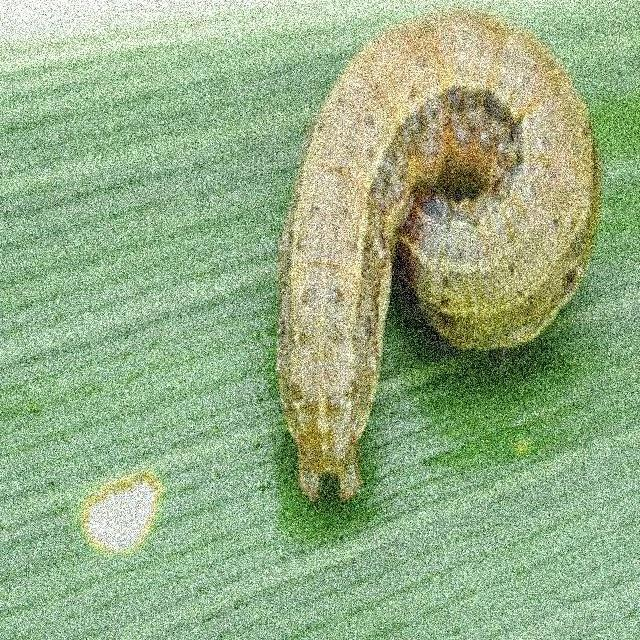gusano_cogollero: (268, 11, 602, 507)
